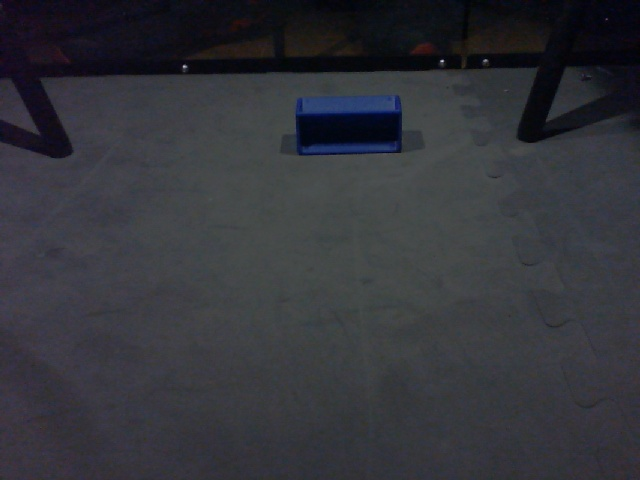BlueSample: (294, 94, 405, 155)
